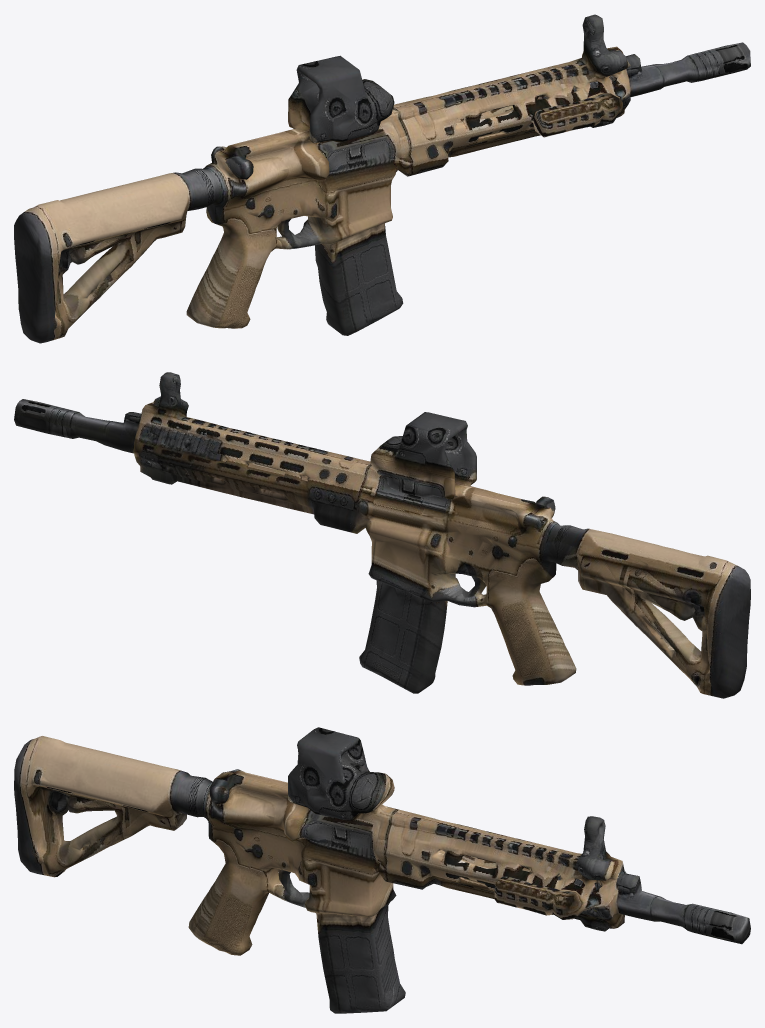
The model's file is carbine.glb.
3 renders of one model, top to bottom at view 1: azimuth 30°, elevation 25°; view 2: azimuth 150°, elevation 25°; view 3: azimuth 330°, elevation 25°, orthographic.
Visible parts, largest first — view 1: geometry_0; view 2: geometry_0; view 3: geometry_0.
Part boxes in pixels (x1=…): geometry_0: x1=14, y1=14, x2=750, y2=343; geometry_0: x1=14, y1=372, x2=750, y2=698; geometry_0: x1=14, y1=727, x2=750, y2=1013.
Bounding box in the file's own units: 0.9495 × 0.3376 × 0.098.
Materials: 1 (1 with a texture image).
